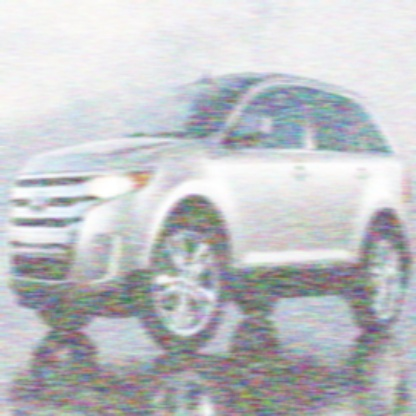Vehicle: (5, 40, 414, 361)
